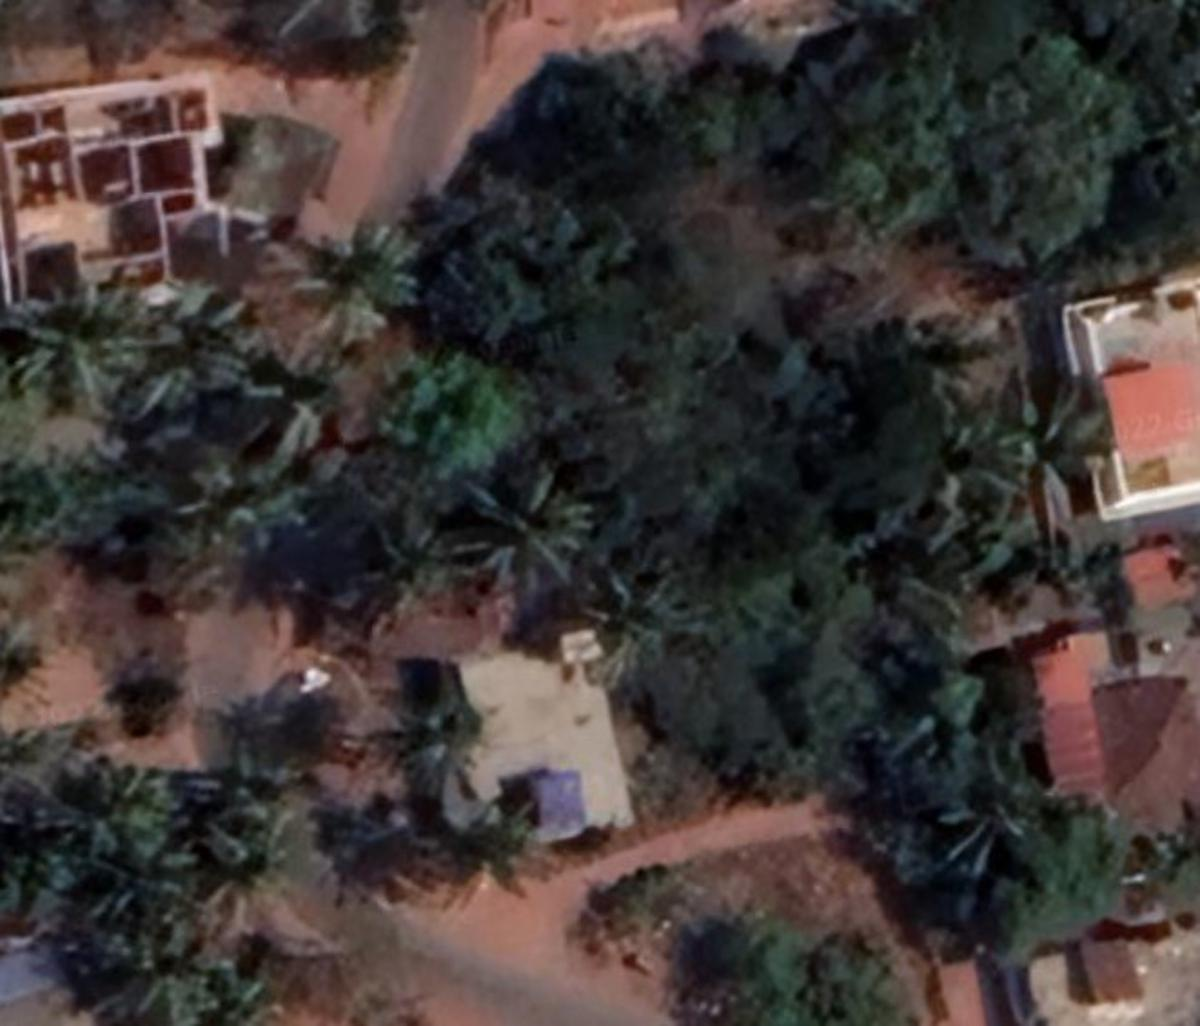coconut: (5, 286, 148, 412), (461, 466, 597, 584), (386, 691, 508, 788), (927, 773, 1032, 882), (321, 223, 428, 323), (590, 561, 689, 670), (461, 797, 551, 909), (99, 777, 205, 869), (949, 408, 1042, 510), (258, 363, 348, 446)
